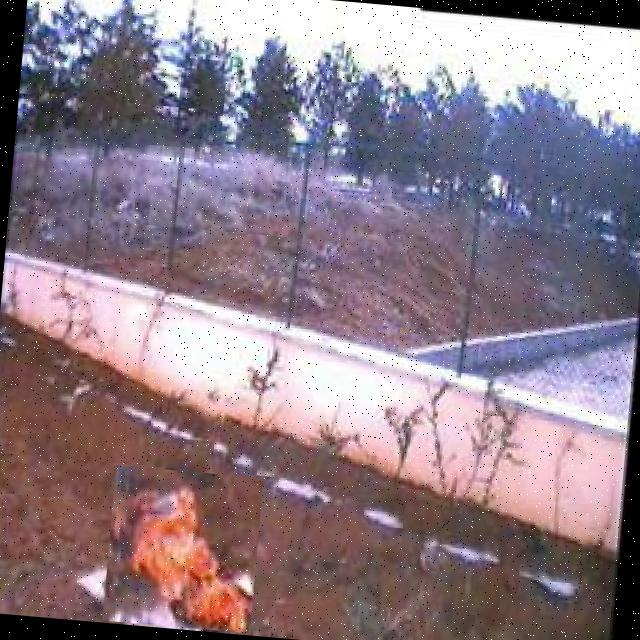fire: (102, 465, 263, 633)
